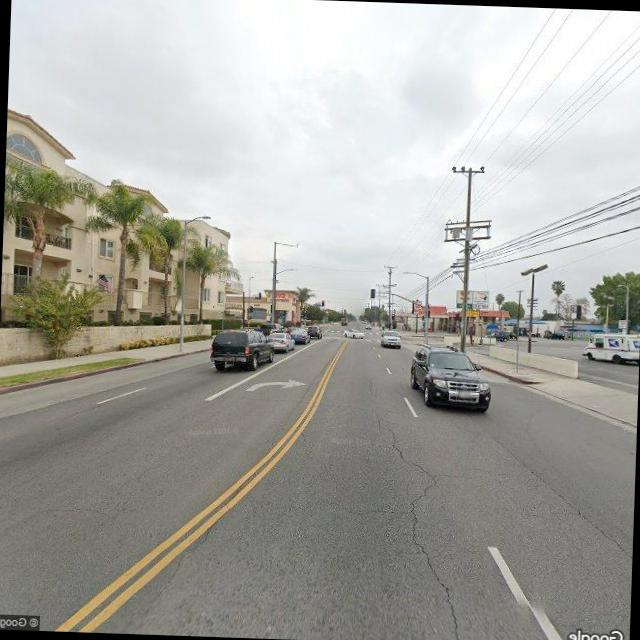crack: (355, 377, 493, 640)
